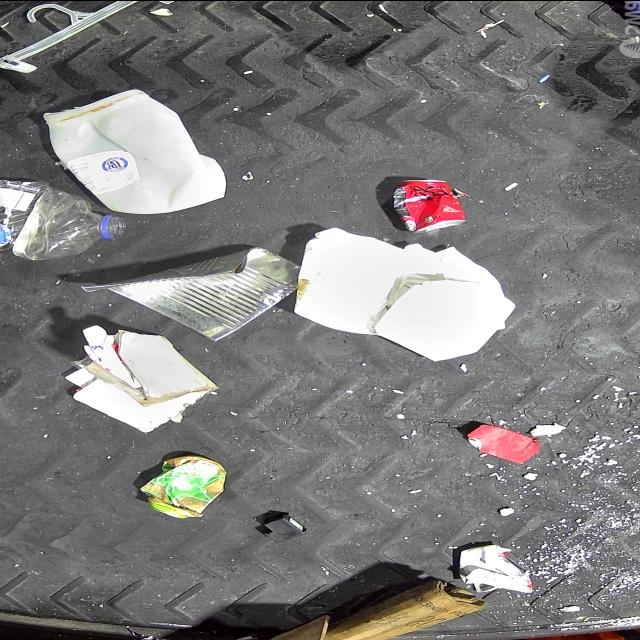can: (391, 178, 467, 232)
milk_jug: (44, 88, 228, 214)
plastic_bottle: (0, 177, 130, 261)
